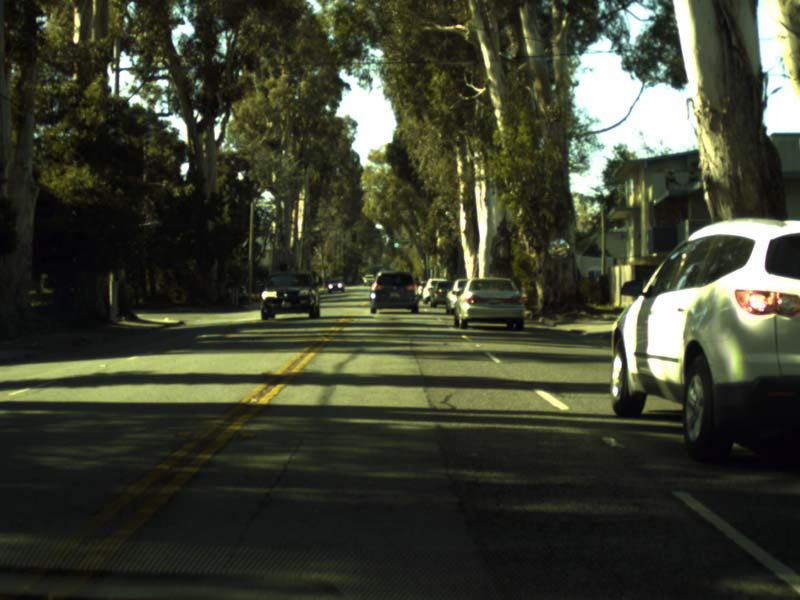Green: (392, 238, 398, 248)
